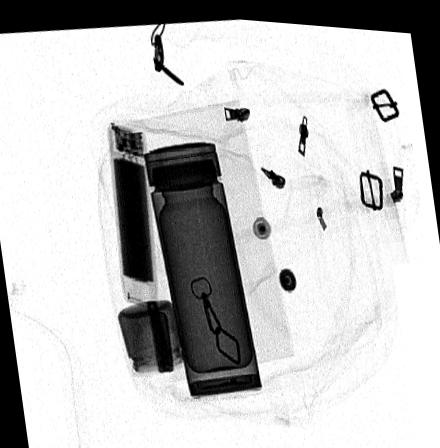Powerbank: (107, 119, 159, 304)
